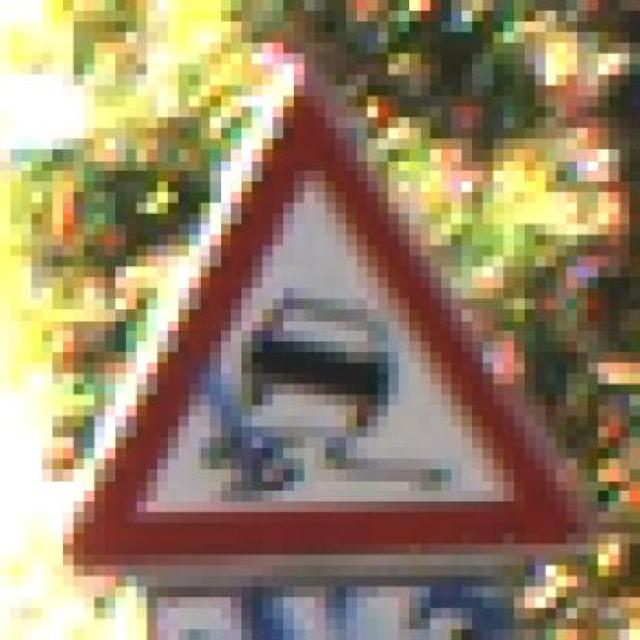Slippery Road Ahead: (42, 53, 609, 576)
